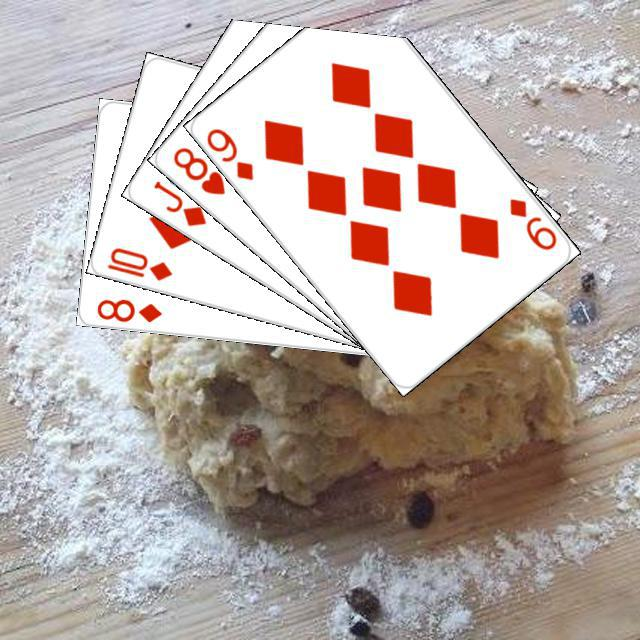10d: (102, 242, 174, 283)
8d: (92, 294, 164, 324)
8h: (168, 142, 227, 197)
9d: (201, 123, 256, 183), (504, 193, 559, 252)
Jd: (148, 175, 209, 229)
